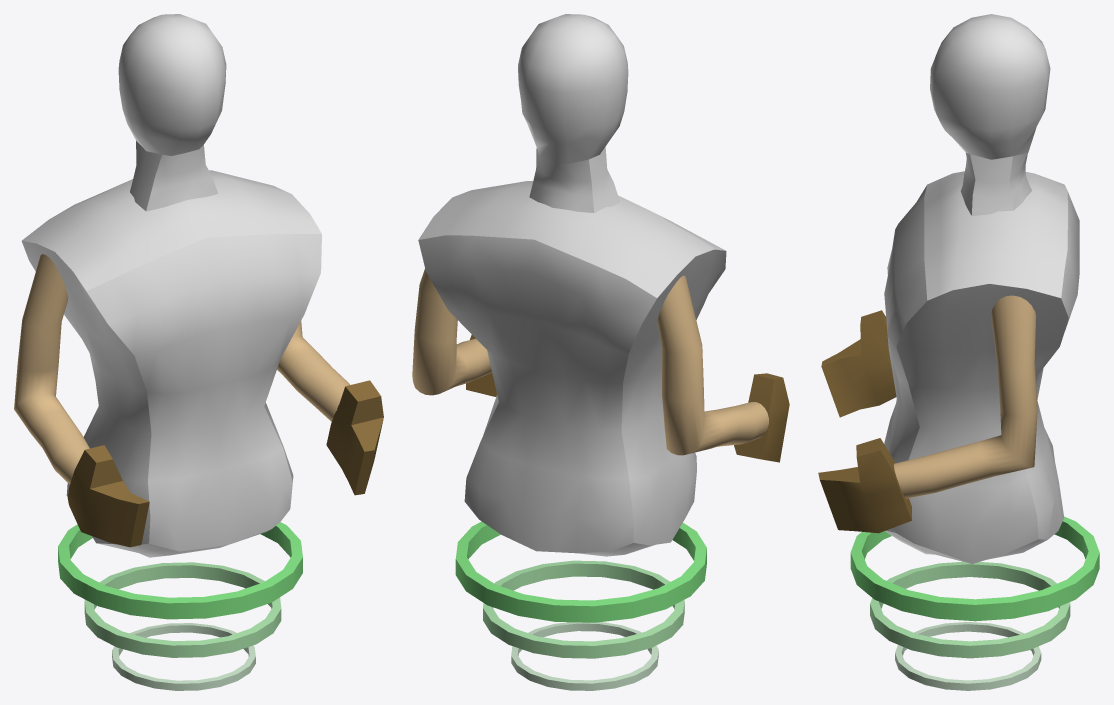
The model's file is enemy+color.fbx.
3 views of the same model, side by side, from view 1: azimuth 30°, elevation 25°; view 2: azimuth 150°, elevation 25°; view 3: azimuth 270°, elevation 25° (orthographic). The views are drawn at different scales.
Parts seen in each view (by area): view 1: pCube1, source_pCube1, source_polySurface1, source_polySurface2, pasted__pPipe1 (×2), pPipe1; view 2: pCube1, source_pCube1, source_polySurface1, pasted__pPipe1 (×2), pPipe1, source_polySurface2; view 3: pCube1, source_pCube1, source_polySurface1, source_polySurface2, pasted__pPipe1 (×2), pPipe1.
Boxes of the visible parts, bbox=[...] form: pCube1: bbox=[21, 170, 321, 557]; source_pCube1: bbox=[118, 14, 226, 211]; source_polySurface1: bbox=[14, 254, 349, 484]; source_polySurface2: bbox=[67, 380, 383, 547]; pasted__pPipe1 (×2): bbox=[84, 562, 281, 690]; pPipe1: bbox=[58, 522, 302, 619]; pCube1: bbox=[418, 181, 726, 556]; source_pCube1: bbox=[518, 14, 628, 212]; source_polySurface1: bbox=[412, 268, 768, 455]; pasted__pPipe1 (×2): bbox=[483, 560, 684, 690]; pPipe1: bbox=[455, 521, 706, 622]; source_polySurface2: bbox=[466, 334, 789, 462]; pCube1: bbox=[884, 171, 1079, 563]; source_pCube1: bbox=[930, 14, 1050, 215]; source_polySurface1: bbox=[894, 295, 1037, 498]; source_polySurface2: bbox=[818, 310, 911, 533]; pasted__pPipe1 (×2): bbox=[870, 561, 1070, 690]; pPipe1: bbox=[850, 516, 1099, 621].
Bounding box in the file's own units: 5.3 × 10.76 × 4.29.
